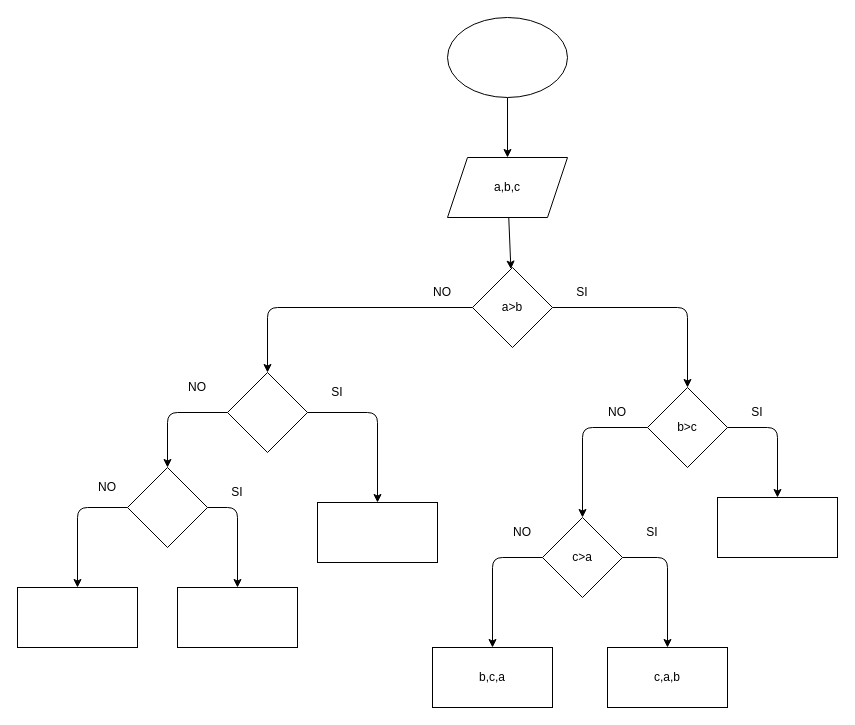
Some shapes in this 855 by 725 pixel diagram are drawn without their labels. The shapes that lost their labels are listed below. From the top down, each one's centre as x and y in pixels, then its label:
At (x=507, y=57): "INICIO".
At (x=267, y=412): "a>c".
At (x=777, y=527): "c,b,a".
